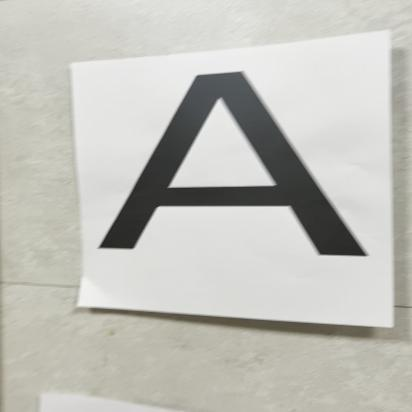seat: (89, 62, 383, 258)
